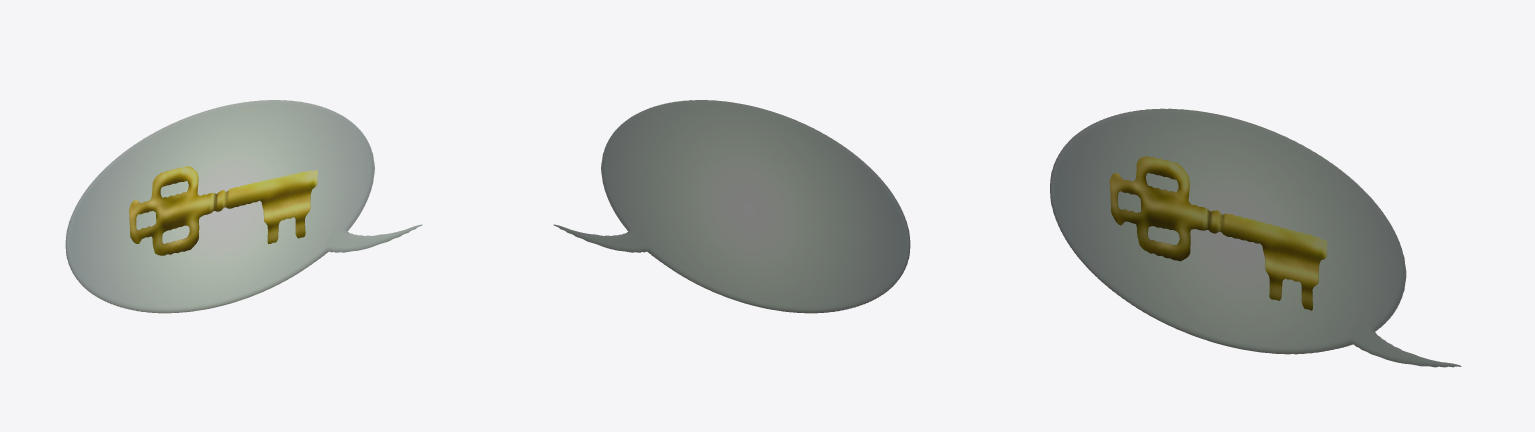
File: Key Baloon.FBX
3 renders of one model, left to right at view 1: azimuth 30°, elevation 25°; view 2: azimuth 150°, elevation 25°; view 3: azimuth 330°, elevation 25°, orthographic. The views are drawn at different scales.
Parts seen in each view (by area): view 1: Key Baloon; view 2: Key Baloon; view 3: Key Baloon.
Boxes of the visible parts, box(x1,y1,x2,y2) form: Key Baloon: box(65, 100, 422, 313); Key Baloon: box(553, 100, 910, 313); Key Baloon: box(1050, 108, 1461, 367).
Bounding box in the file's own units: 173 × 3.75 × 109.
